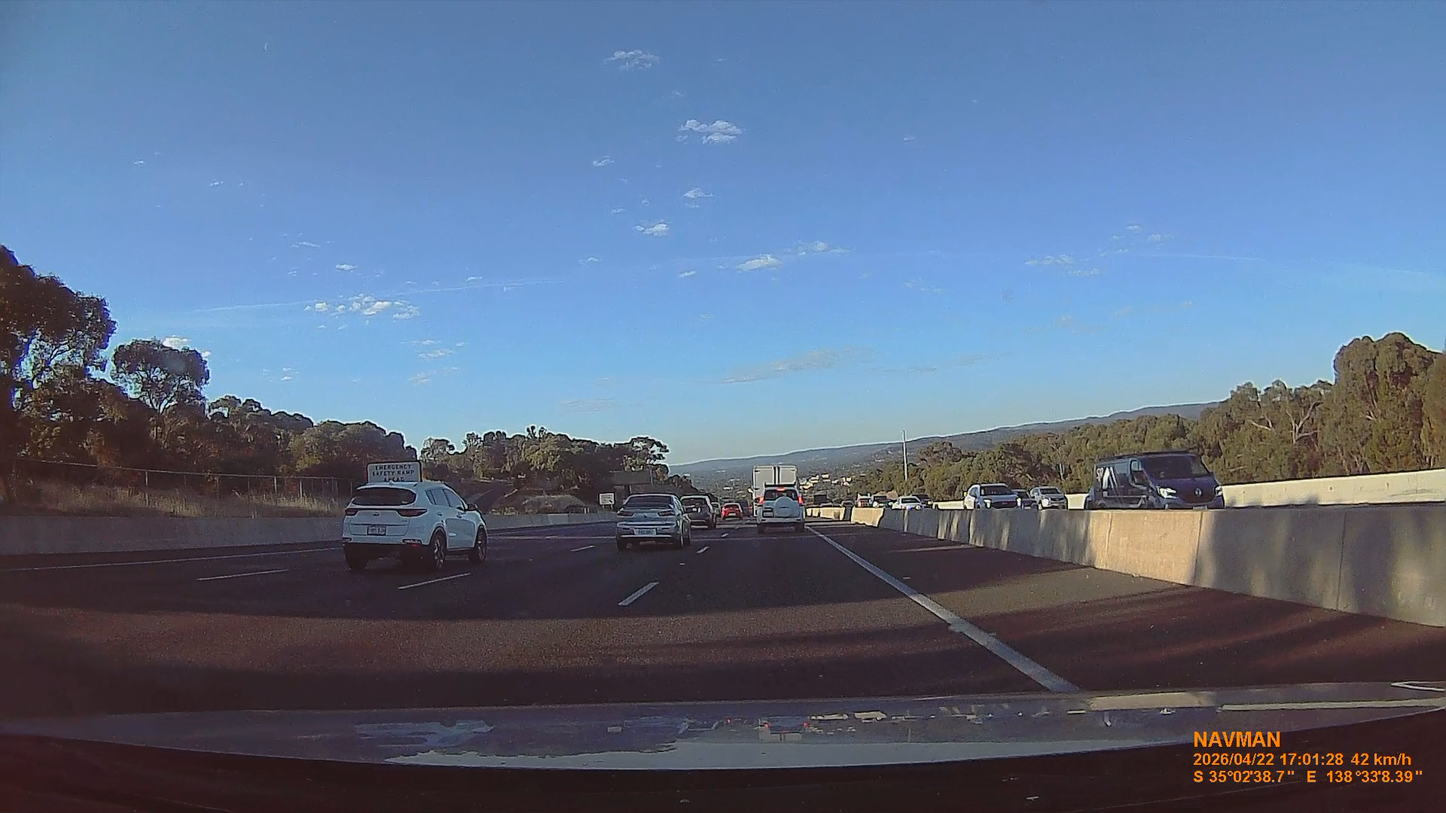road barriers: (874, 479, 1446, 623), (495, 509, 618, 533)
